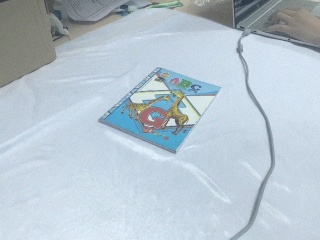book: (96, 63, 223, 156)
box: (1, 1, 57, 98)
